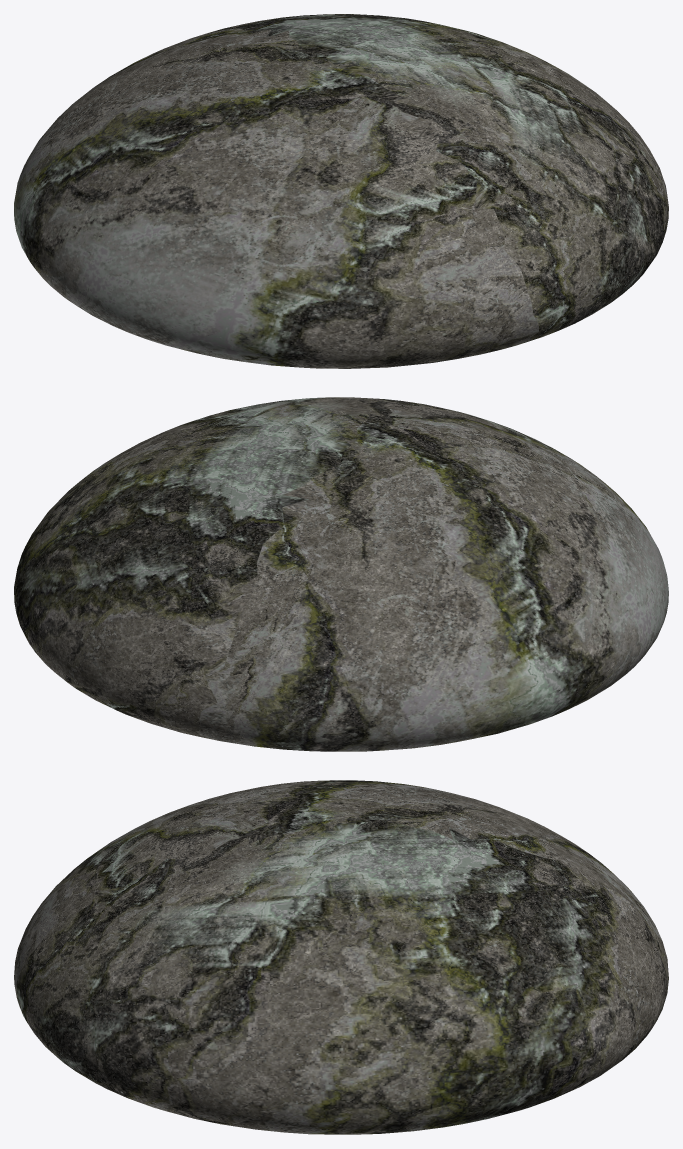
The model's file is spider_location2.fbx.
3 renders of one model, top to bottom at view 1: azimuth 30°, elevation 25°; view 2: azimuth 150°, elevation 25°; view 3: azimuth 270°, elevation 25°, orthographic.
Visible parts, largest first — view 1: Sphere; view 2: Sphere; view 3: Sphere.
Boxes of the visible parts, x1=… form: Sphere: x1=14, y1=14, x2=668, y2=368; Sphere: x1=14, y1=397, x2=668, y2=751; Sphere: x1=14, y1=780, x2=668, y2=1134.
Bounding box in the file's own units: 10053 × 3235 × 10052.
